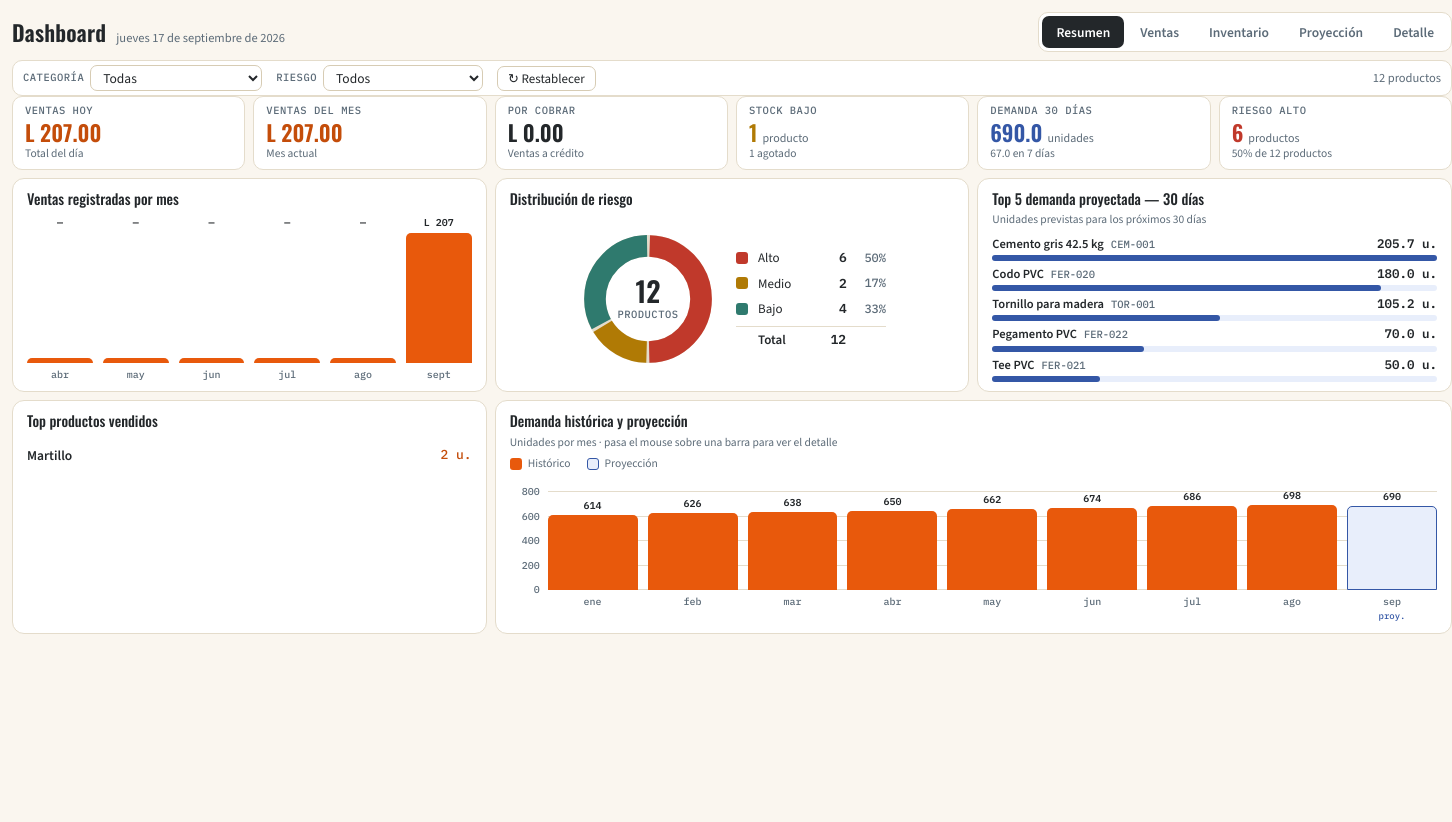
Test case: navegación entre vistas › Ventas reúne la operación y no muestra los filtros de la proyección
This screenshot has width=1452, height=822.
Expected: the text "Distribución de riesgo" is shown, [510,188,633,209]
Click the tab "Ventas" at [1160, 32], box [1126,16,1193,48]
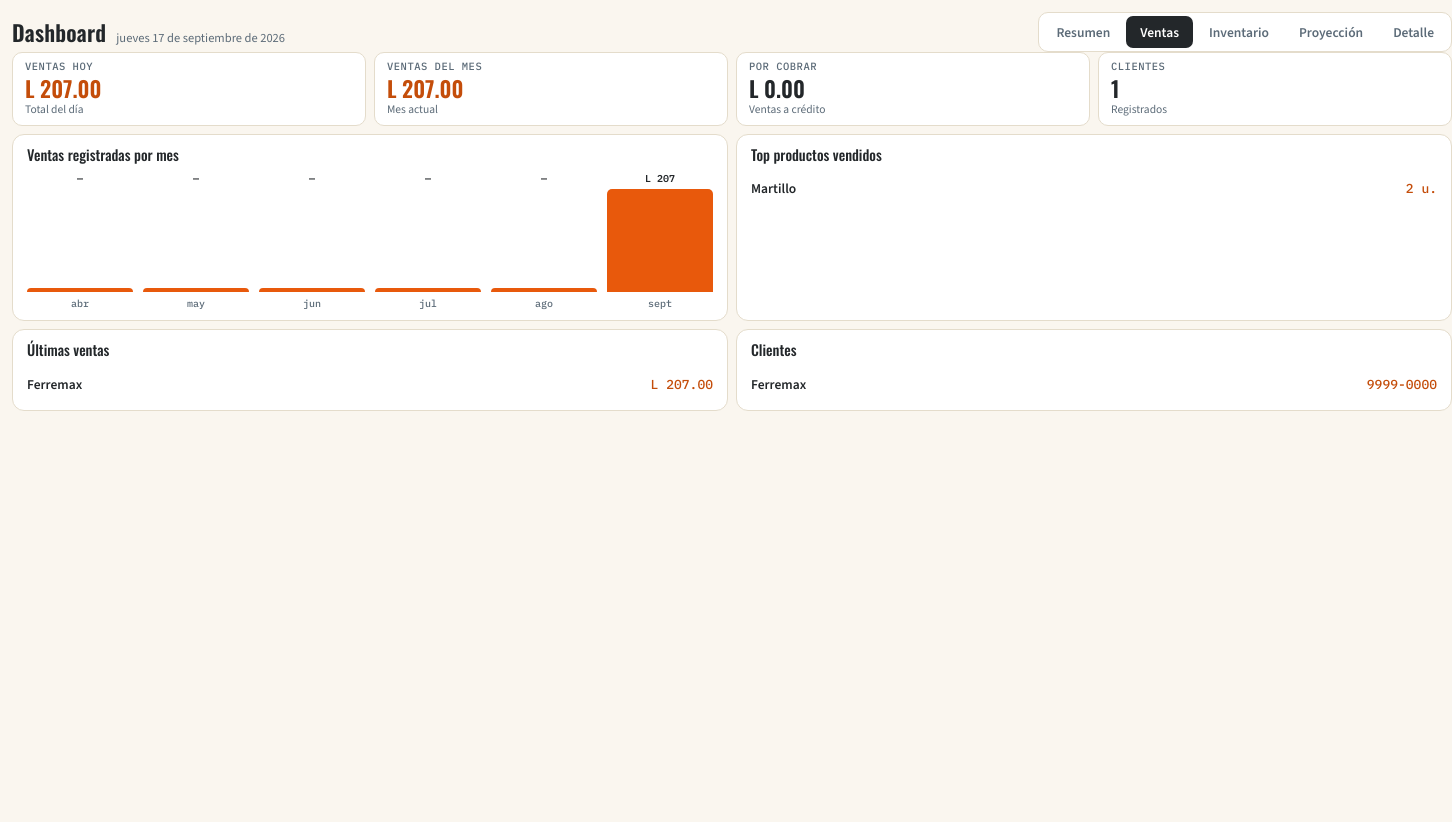
Expected: the text "Clientes" shows "1", [1111,72,1120,104]
Expected: the text "Últimas ventas" is shown, [27,339,109,360]
Expected: the text "Ferremax" is shown 2 times, [27,375,82,393]; [751,375,806,393]
